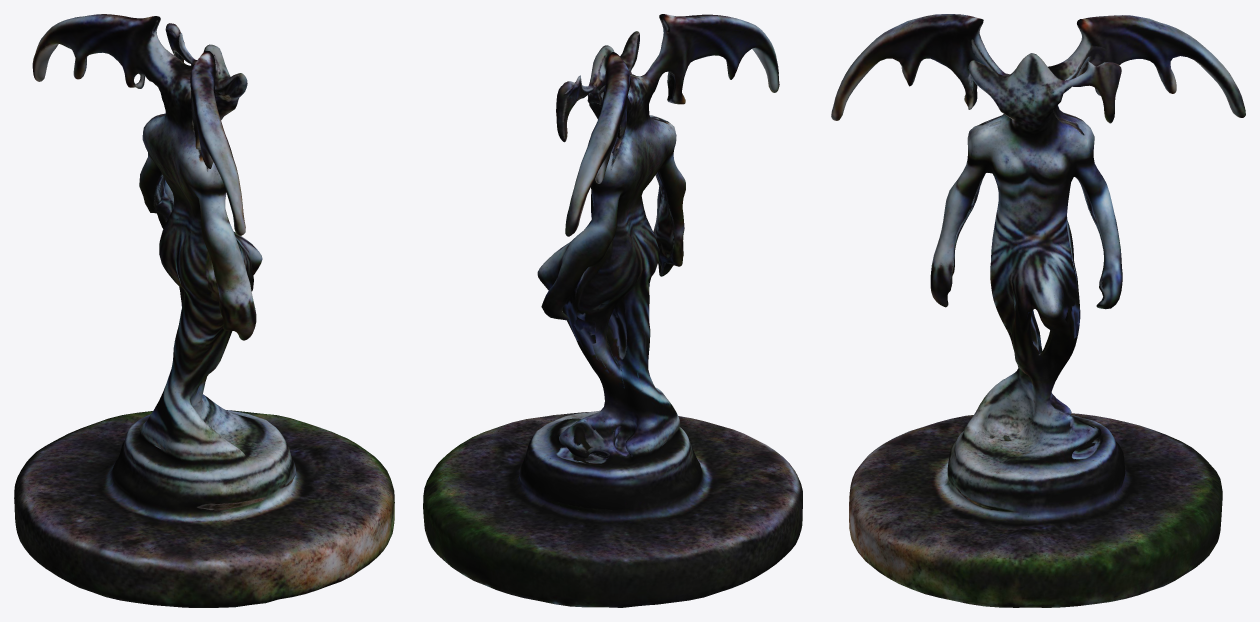
File: Statue 2.fbx
3 views of the same model, side by side, from view 1: azimuth 30°, elevation 25°; view 2: azimuth 150°, elevation 25°; view 3: azimuth 270°, elevation 25° (orthographic).
Visible parts, largest first — view 1: mesh; view 2: mesh; view 3: mesh.
Boxes of the visible parts, x1,y1,x2,y2 form: mesh: (14,14,394,607); mesh: (423,14,802,607); mesh: (831,14,1245,607).
Bounding box in the file's own units: 67.34 × 99.73 × 74.71.
